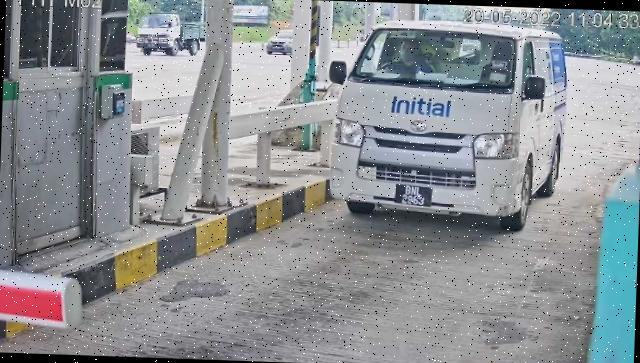License_Plate: (395, 184, 435, 211)
van: (328, 17, 570, 234)
